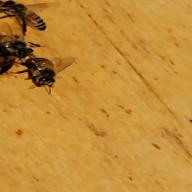Bee: (0, 0, 52, 34), (28, 54, 72, 90)
